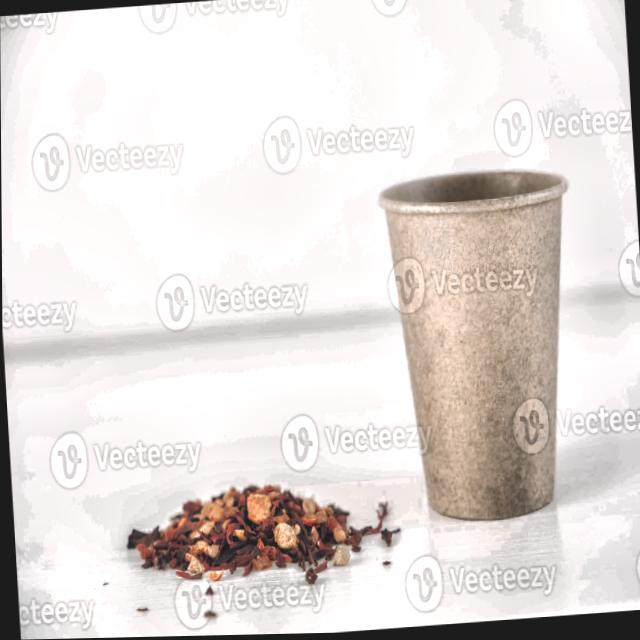Cup: (376, 159, 587, 536)
